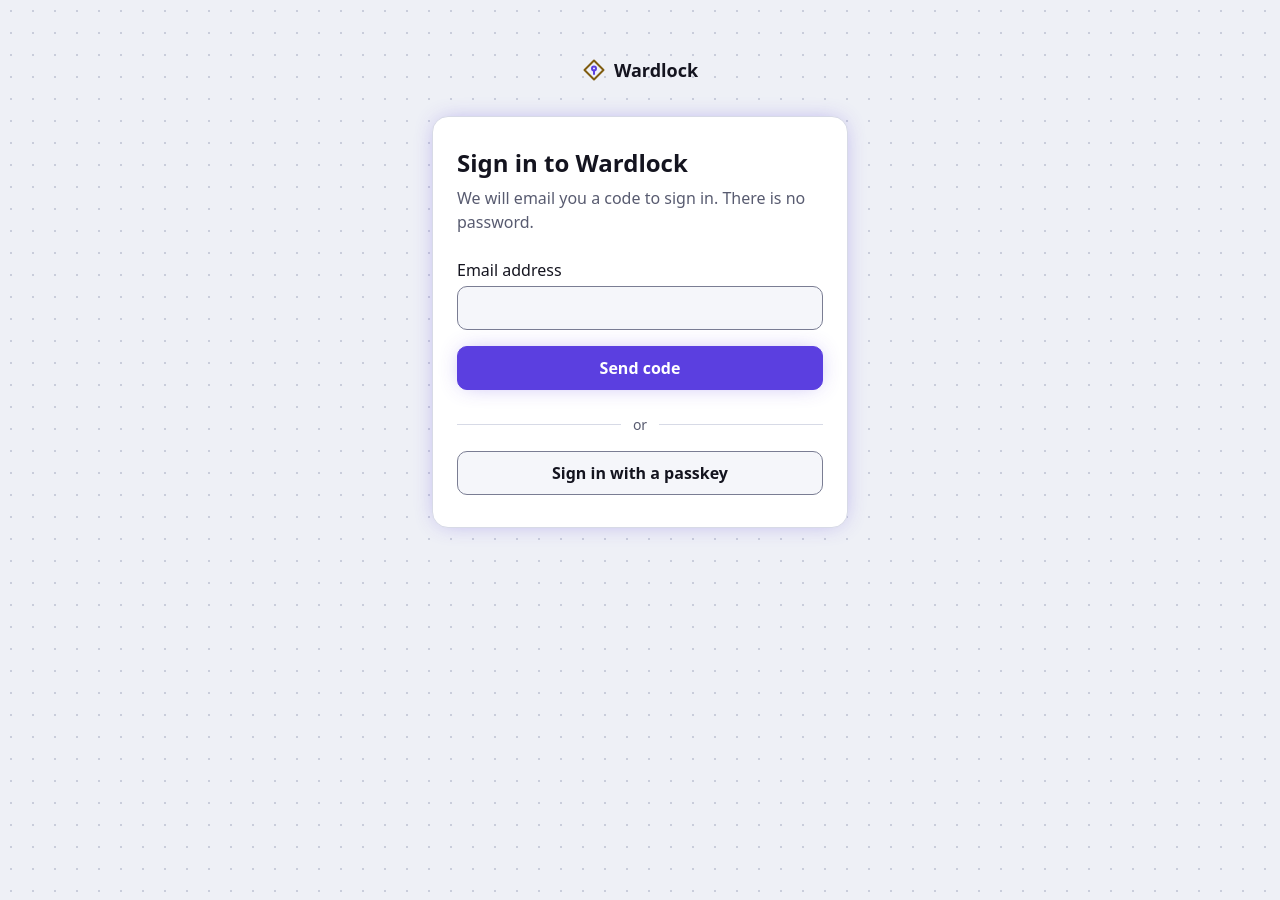
email-code sign-in › never follows a return path to another origin
In the field labelled "Email address": (640, 308) top-left (457, 286), bottom-right (823, 330), type "owner@example.test"
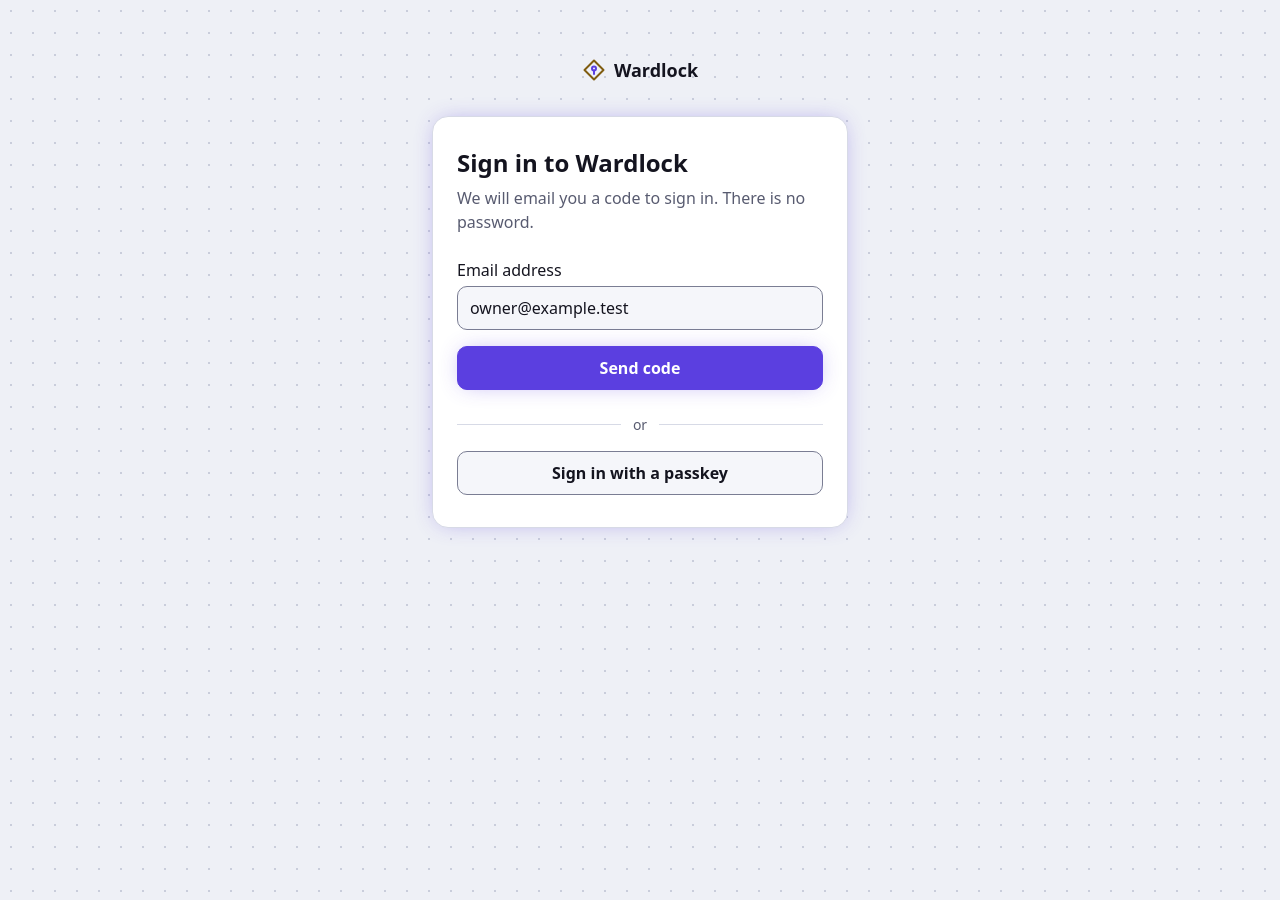
Click the button "Send code": (640, 368) top-left (457, 346), bottom-right (823, 390)
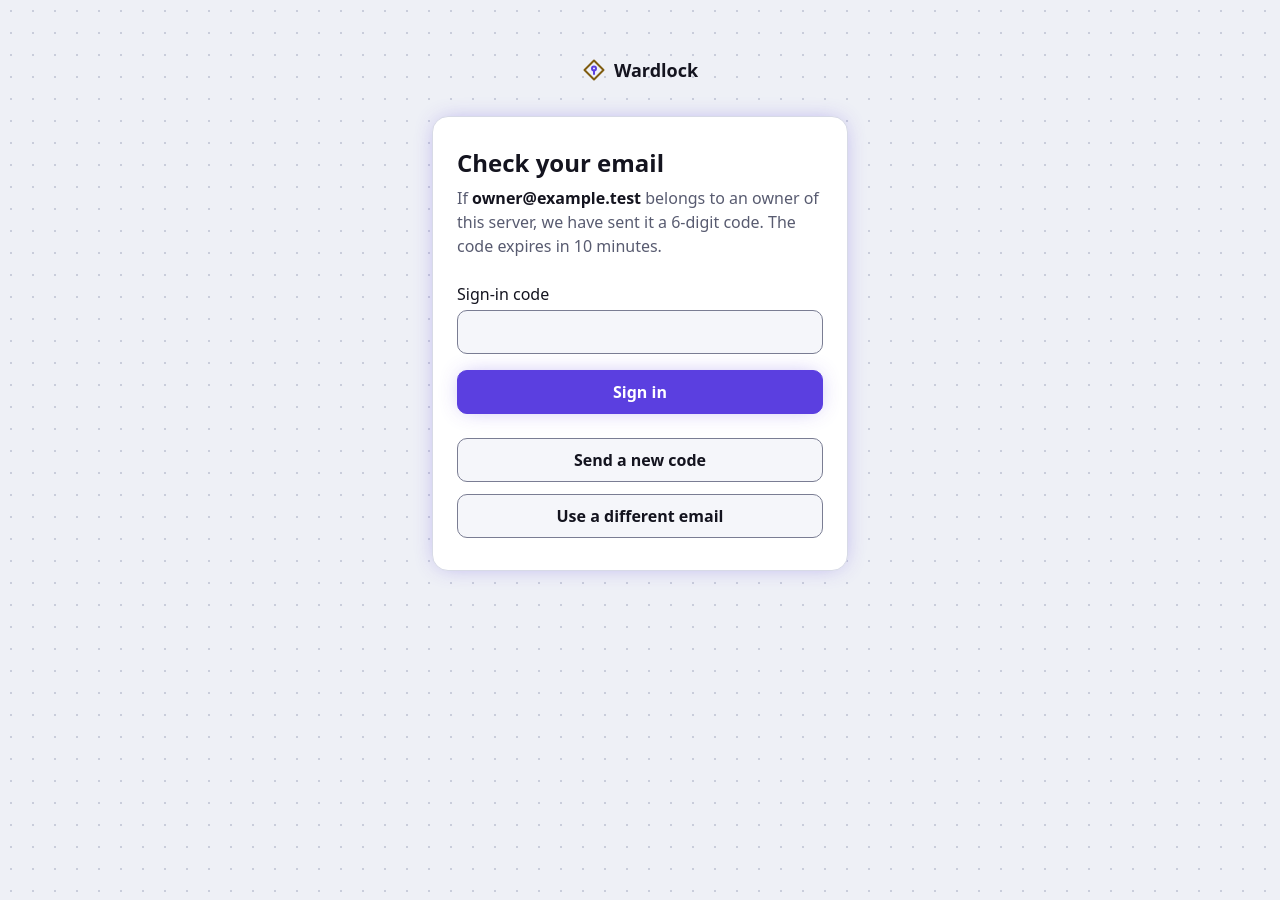
Result: the heading "Check your email" is shown at top-left (457, 146), bottom-right (664, 179)
In the field labelled "Sign-in code": (640, 332) top-left (457, 310), bottom-right (823, 354), type "482913"
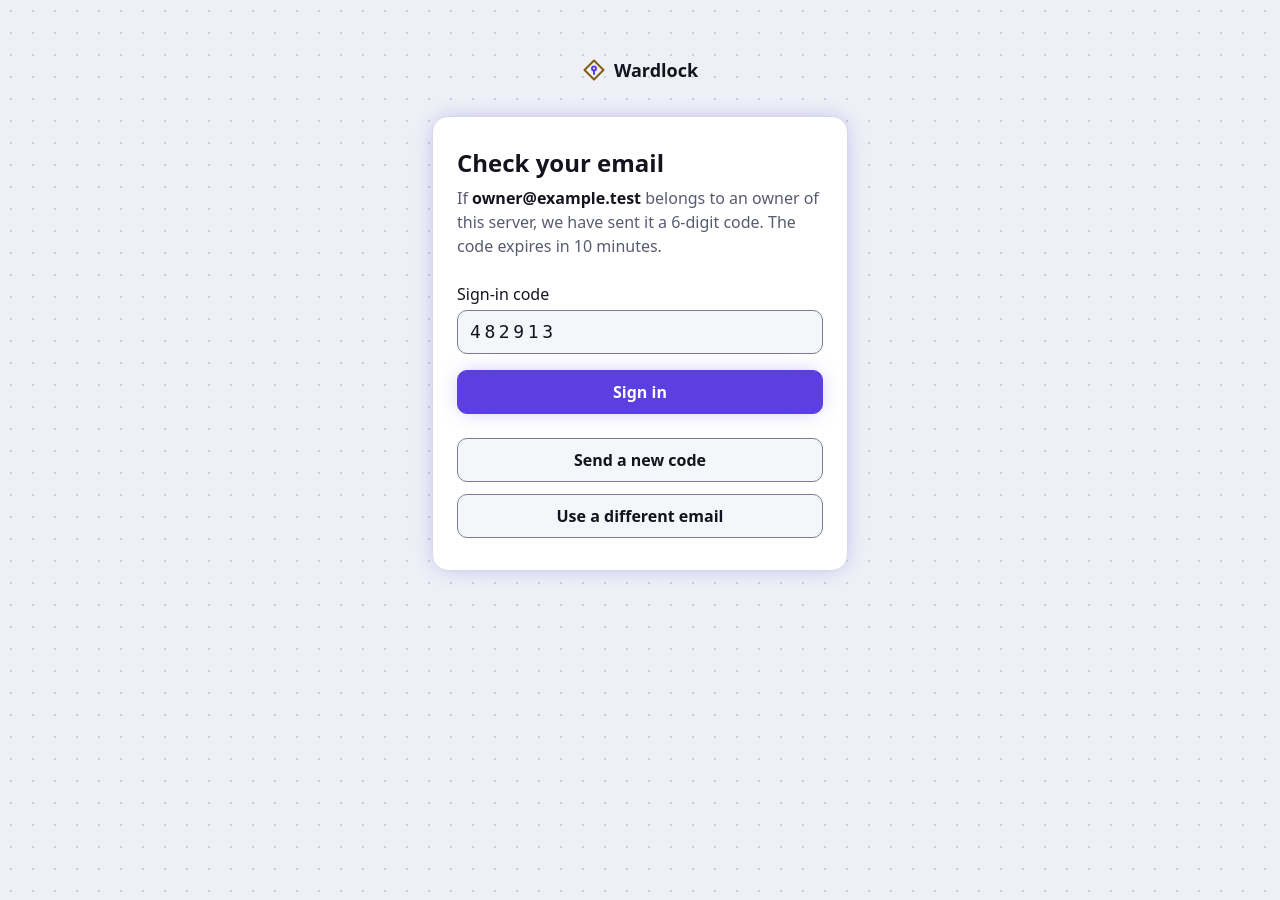
Click the button "Sign in": (640, 392) top-left (457, 370), bottom-right (823, 414)
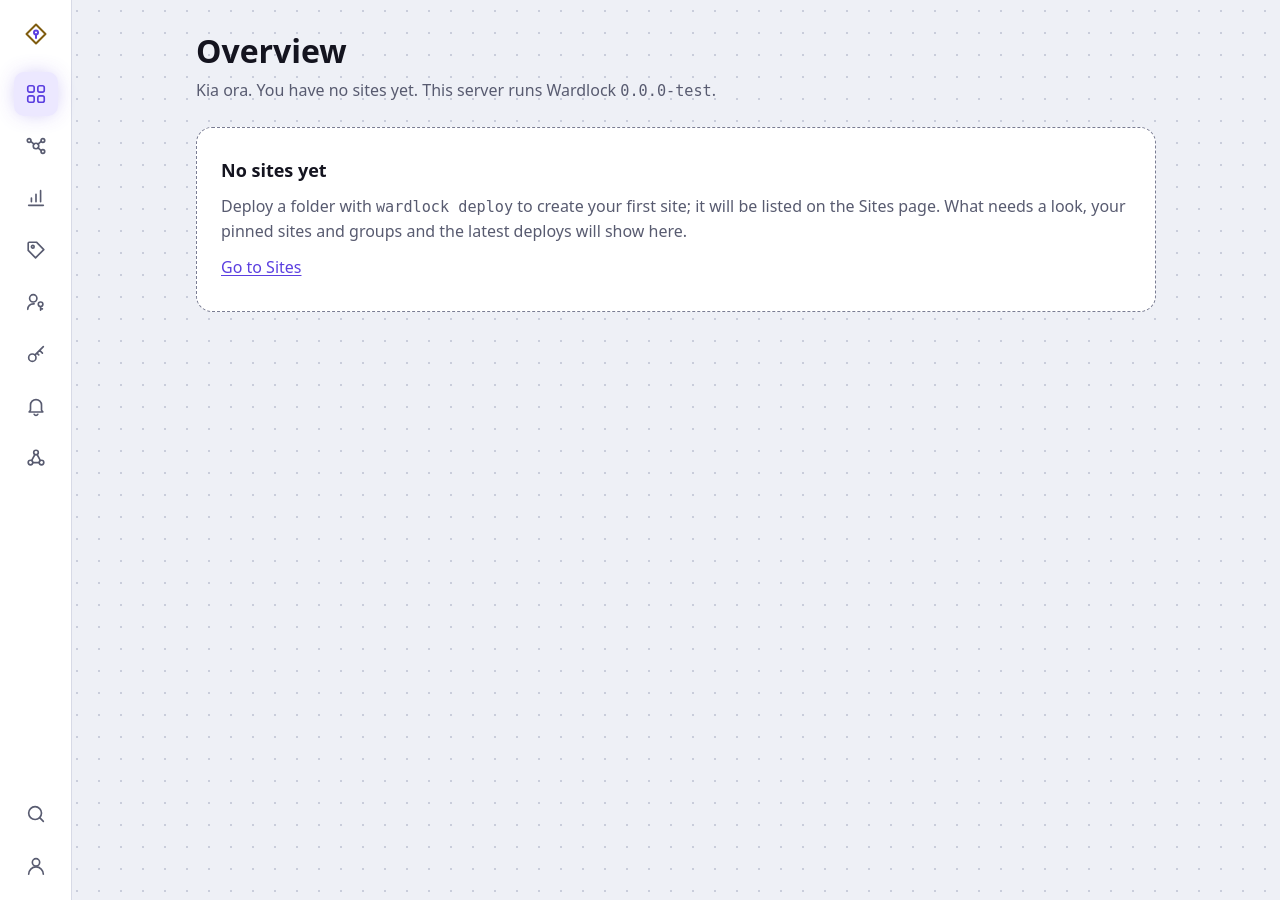
Result: the heading "Overview" is shown at top-left (196, 29), bottom-right (347, 72)
